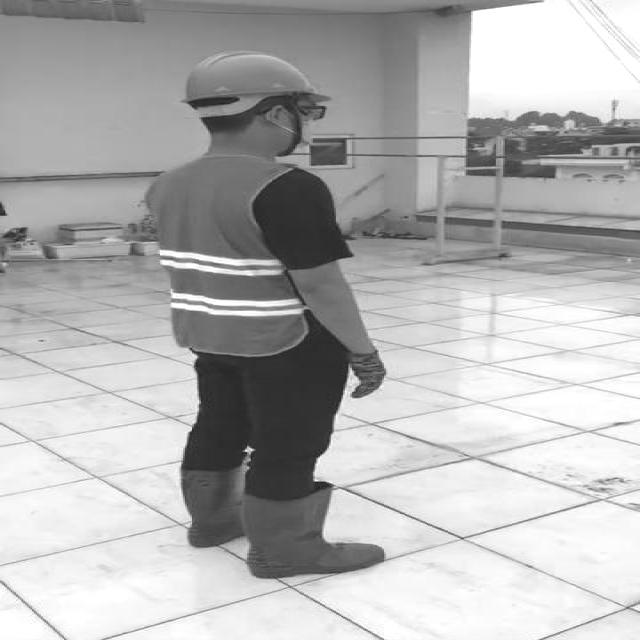boots: (247, 486, 386, 577), (174, 464, 247, 551)
hand_glove: (347, 350, 388, 400)
head_helmet: (180, 48, 330, 106)
person: (142, 49, 398, 585)
vest: (148, 155, 314, 353)
